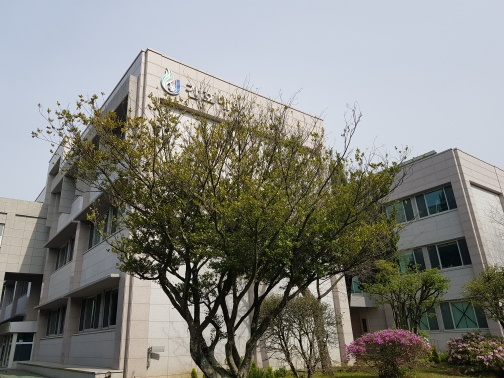College of Nursing: (19, 78, 502, 341)
